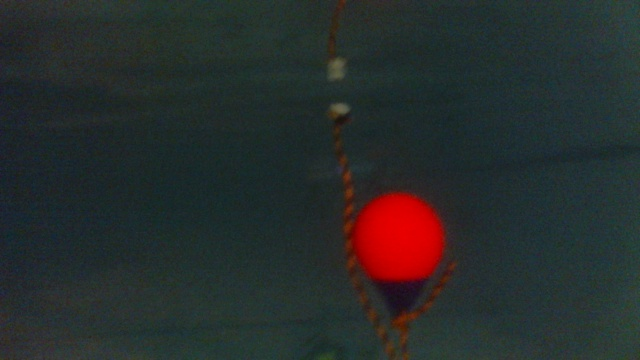buoy_red: (349, 190, 447, 314)
